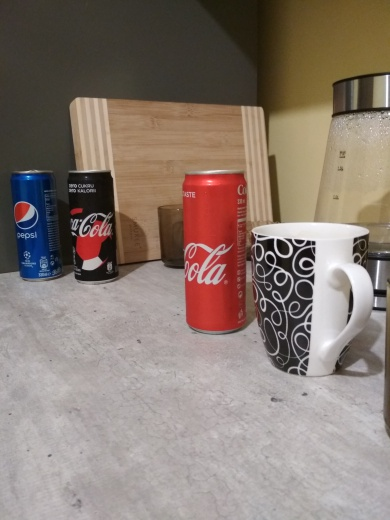cola: (169, 161, 256, 342)
colazero: (66, 161, 126, 297)
pepsi: (10, 164, 64, 287)
